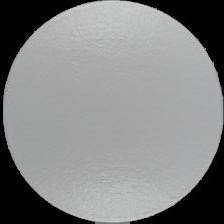67046-540: (0, 0, 224, 224)
